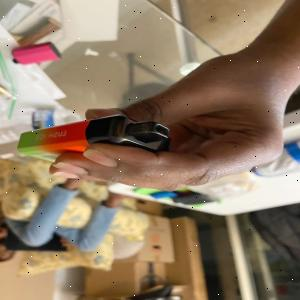Swift-E-Ciggirate: (16, 116, 173, 160)
